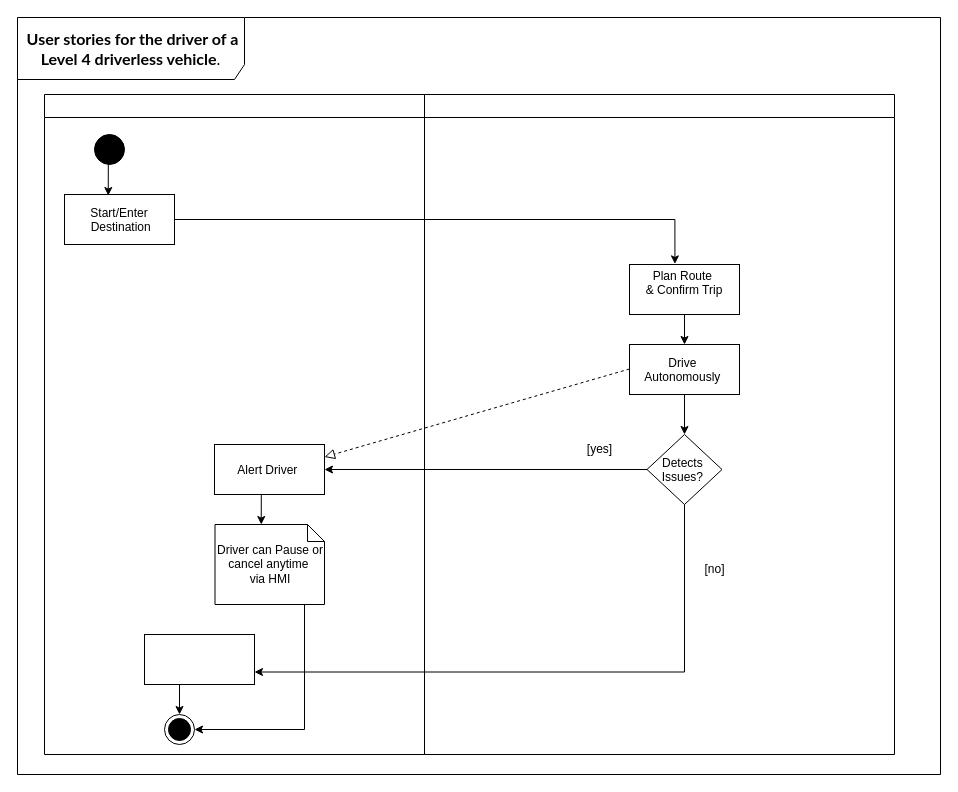
This 958x792 diagram has some shape labels left out. The shapes that lost their labels are listed below. From the top down, each one's box as (x1, y1, x2, y2) in pixels, then its label:
(44, 94, 424, 754): Driver Lane /User
(424, 94, 894, 754): Vehicle System
(144, 634, 254, 684): Arrive Destination
